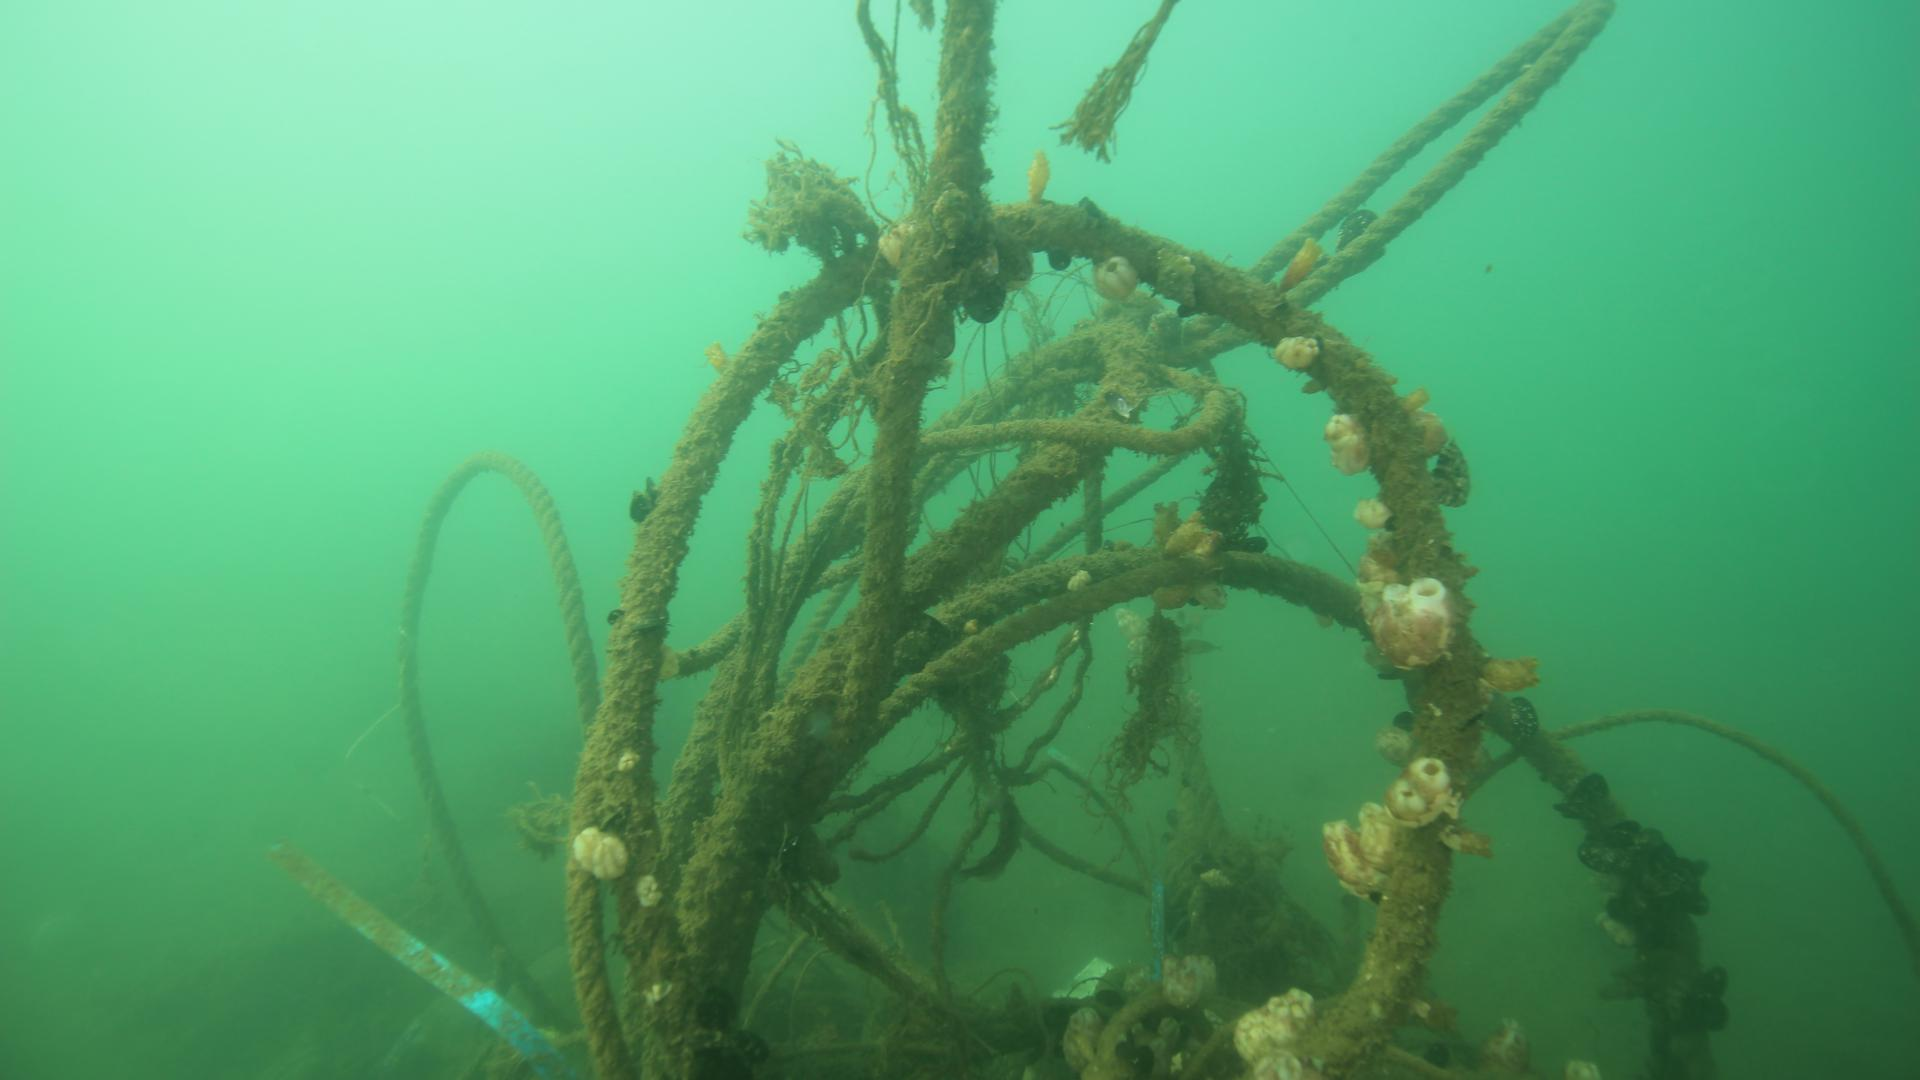bundle of ropes: (382, 3, 1920, 1080)
